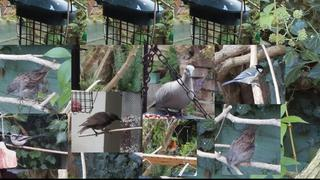collared dove: (147, 65, 195, 116)
dunnock: (5, 65, 51, 106), (226, 124, 261, 169)
great tit: (221, 65, 265, 87)
long tailed tit: (9, 134, 48, 149)
robin: (165, 139, 177, 156)
starling: (77, 112, 122, 137)
